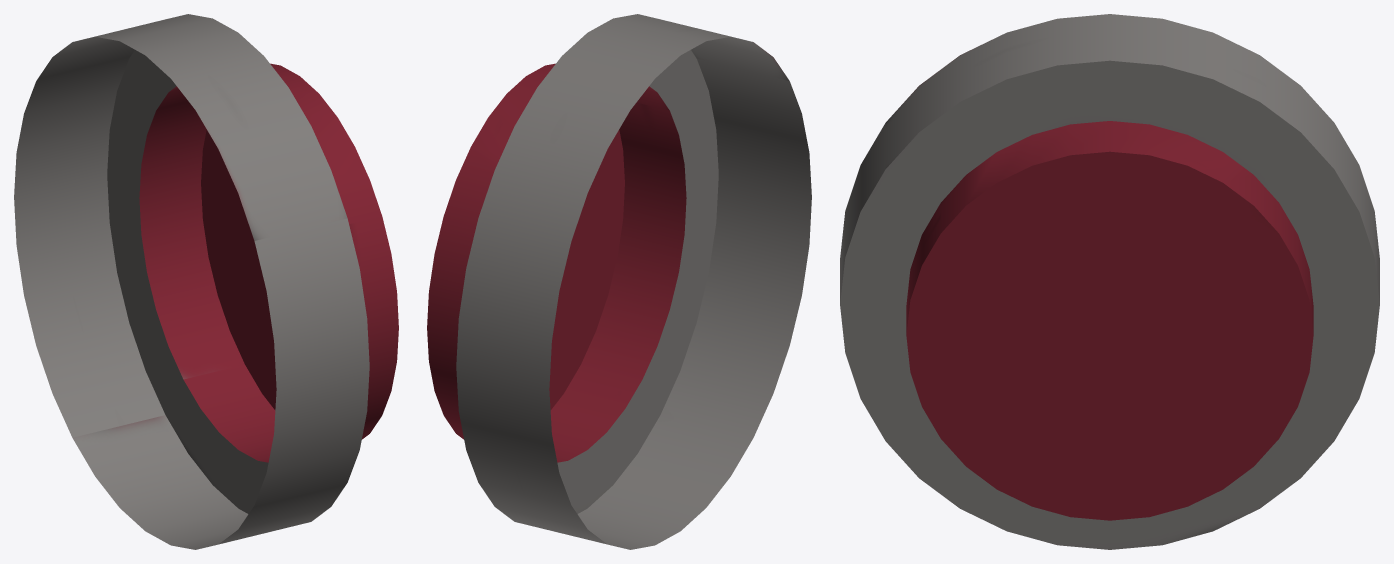
The model's file is ButtonBig.fbx.
The picture shows the model from 3 angles, left to right: view 1: azimuth 30°, elevation 25°; view 2: azimuth 150°, elevation 25°; view 3: azimuth 270°, elevation 25°; orthographic projection. The views are drawn at different scales.
Visible parts, largest first — view 1: ButtonBig; view 2: ButtonBig; view 3: ButtonBig.
Part boxes in pixels (bbox=[...]): ButtonBig: bbox=[14, 14, 398, 549]; ButtonBig: bbox=[427, 14, 811, 549]; ButtonBig: bbox=[840, 14, 1379, 549].
Size of the model in its own units: 27.21 by 80 by 80.
